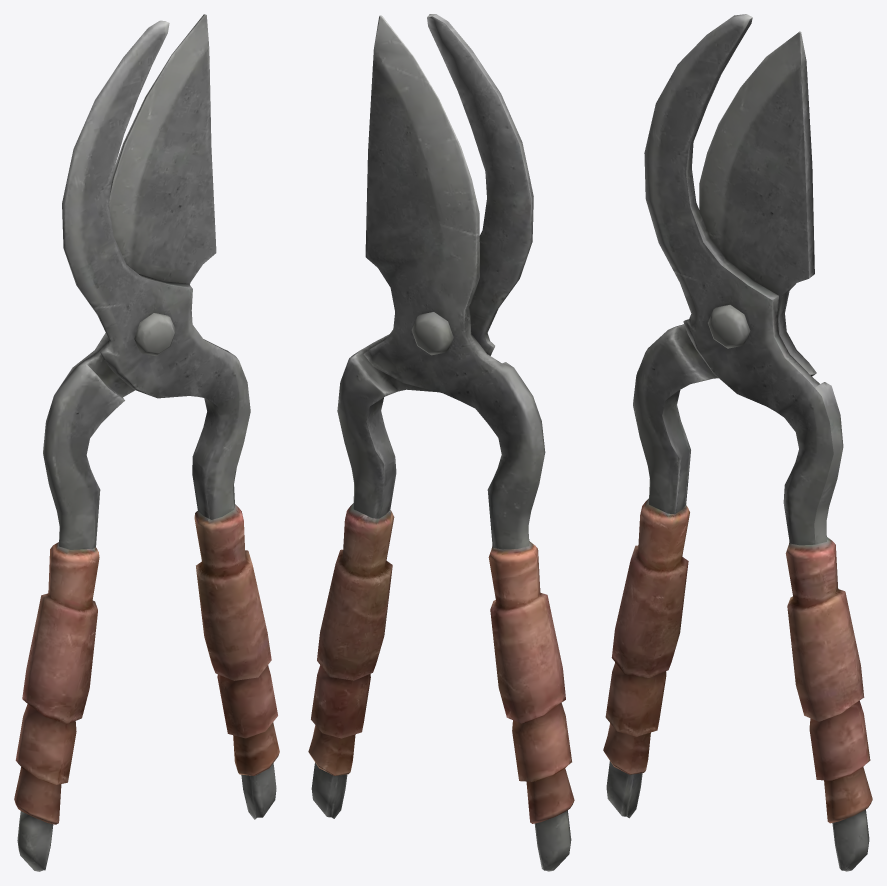
The picture shows the model from 3 angles, left to right: view 1: azimuth 30°, elevation 25°; view 2: azimuth 150°, elevation 25°; view 3: azimuth 330°, elevation 25°; orthographic projection.
Visible parts, largest first — view 1: SM_Secateurs_Iron_1h_01_Drop_LOD0; view 2: SM_Secateurs_Iron_1h_01_Drop_LOD0; view 3: SM_Secateurs_Iron_1h_01_Drop_LOD0.
Boxes of the visible parts, x1,y1,x2,y2 form: SM_Secateurs_Iron_1h_01_Drop_LOD0: [14, 14, 279, 871]; SM_Secateurs_Iron_1h_01_Drop_LOD0: [308, 14, 574, 871]; SM_Secateurs_Iron_1h_01_Drop_LOD0: [603, 14, 872, 871].
Size of the model in its own units: 0.1474 by 0.4469 by 0.0343.
1 material, 1 textured.
